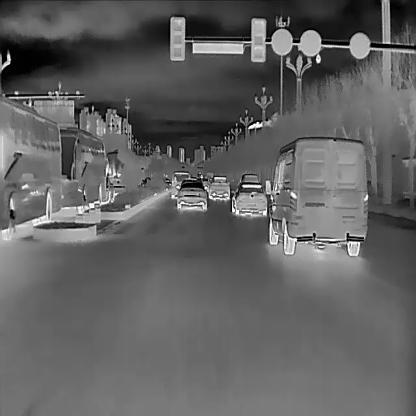car: (267, 137, 369, 255), (0, 94, 62, 238), (56, 122, 107, 212), (231, 183, 266, 216), (176, 178, 206, 212), (169, 170, 189, 197), (209, 176, 229, 199), (240, 174, 256, 188)
